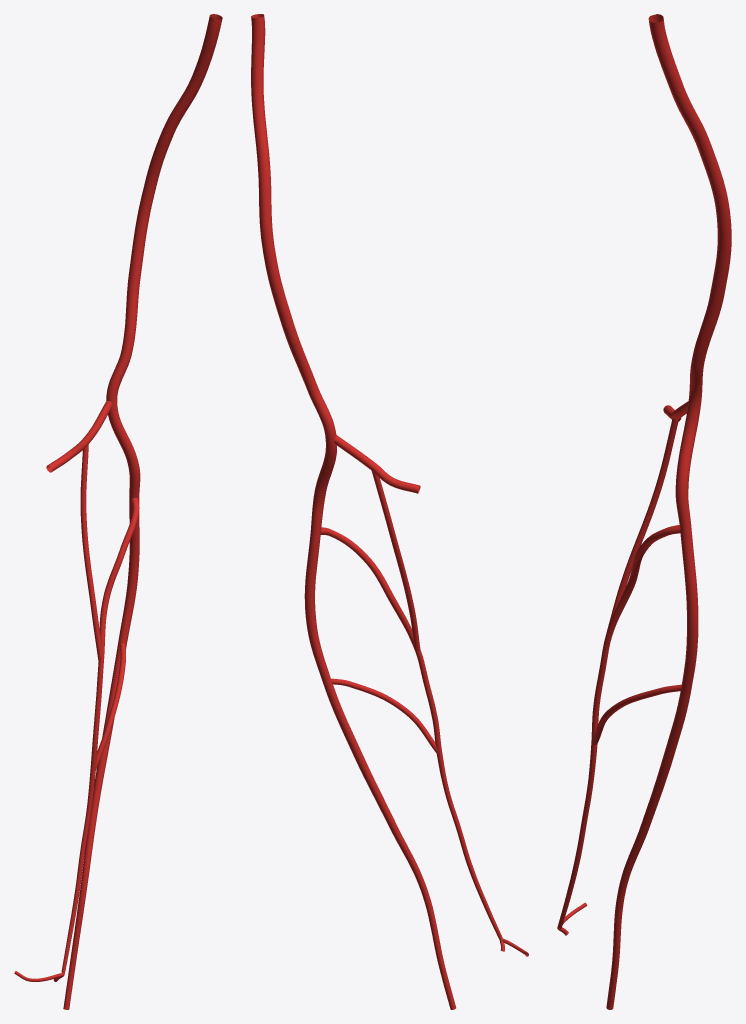
File: circulatorio-basilic-vein-r.glb
3 views of the same model, side by side, from view 1: azimuth 30°, elevation 25°; view 2: azimuth 150°, elevation 25°; view 3: azimuth 270°, elevation 25° (orthographic). The views are drawn at different scales.
Visible parts, largest first — view 1: Basilic vein.r, Median antebrachial vein.r, Median cubital vein.r; view 2: Basilic vein.r, Median antebrachial vein.r, Median cubital vein.r; view 3: Basilic vein.r, Median antebrachial vein.r, Median cubital vein.r.
Part boxes in pixels (x1,y1,x2,y2): Basilic vein.r: [63, 14, 222, 1009]; Median antebrachial vein.r: [14, 498, 139, 981]; Median cubital vein.r: [46, 400, 112, 661]; Basilic vein.r: [251, 14, 456, 1009]; Median antebrachial vein.r: [320, 527, 528, 956]; Median cubital vein.r: [334, 435, 420, 651]; Basilic vein.r: [606, 14, 731, 1009]; Median antebrachial vein.r: [557, 525, 681, 935]; Median cubital vein.r: [606, 401, 688, 635].
Bounding box in the file's own units: 0.1239 × 0.4668 × 0.0679.
